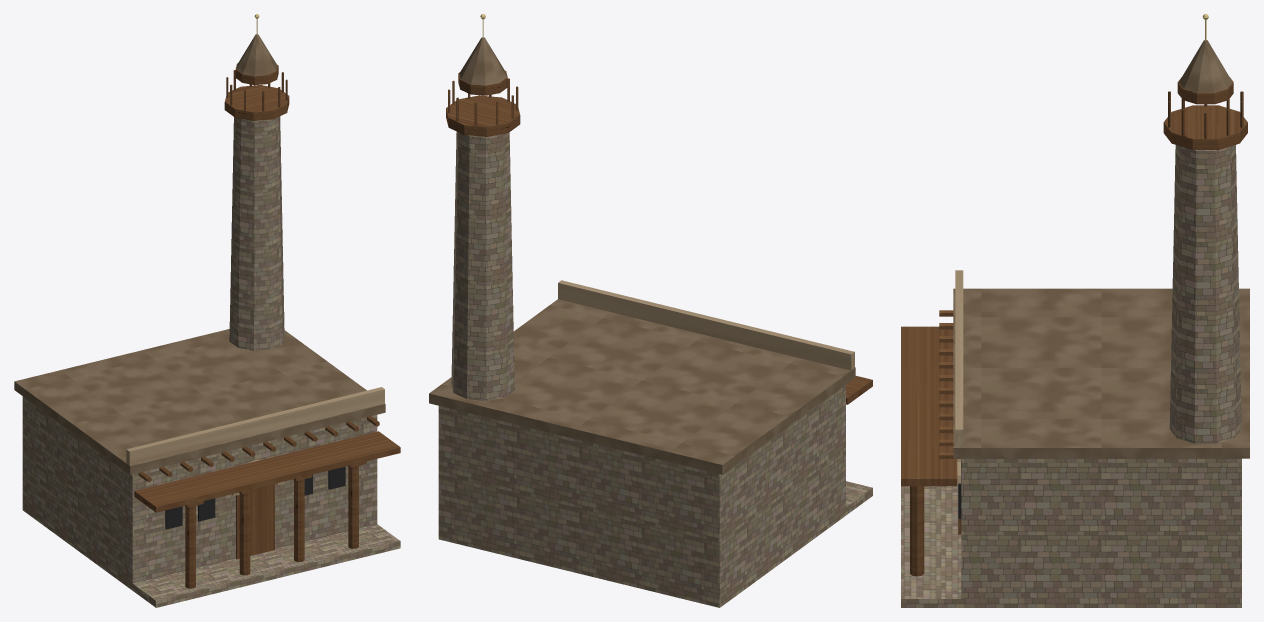
File: mosque_juma.glb
3 renders of one model, left to right at view 1: azimuth 30°, elevation 25°; view 2: azimuth 150°, elevation 25°; view 3: azimuth 270°, elevation 25°, orthographic. The views are drawn at different scales.
Parts seen in each view (by area): view 1: Mosque_Juma; view 2: Mosque_Juma; view 3: Mosque_Juma.
Boxes of the visible parts, x1=… form: Mosque_Juma: x1=14, y1=14, x2=400, y2=607; Mosque_Juma: x1=429, y1=14, x2=872, y2=607; Mosque_Juma: x1=901, y1=14, x2=1249, y2=607.
Size of the model in its own units: 9.4 by 15.93 by 8.7.
6 materials, 4 textured.
